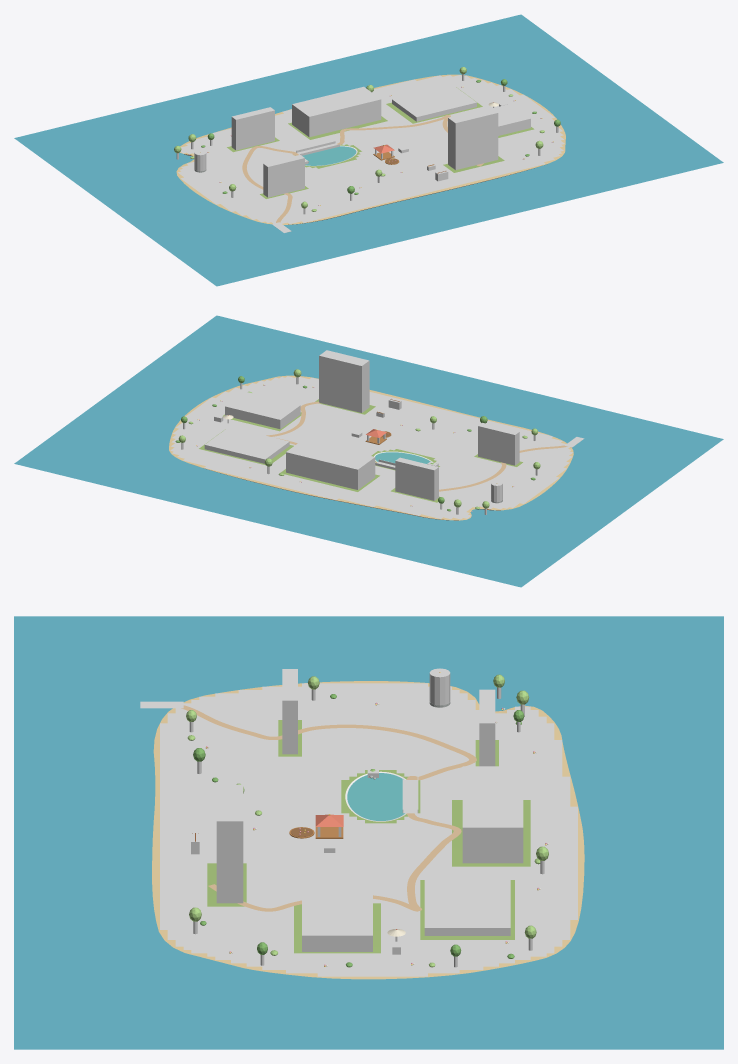
File: island_color_v10_pondcolorfix.glb
The picture shows the model from 3 angles, top to bottom: view 1: azimuth 30°, elevation 25°; view 2: azimuth 150°, elevation 25°; view 3: azimuth 270°, elevation 25°; orthographic projection. The views are drawn at different scales.
Visible parts, largest first — view 1: ISLAND_Sea_Surface, NAV_Walkable, COL_BLD_03_ByteDance, COL_BLD_06_Photo, COL_BLD_04_Football, ISLAND_Sand_Beach, COL_BLD_02_Tsinghua, COL_BLD_01_CSU, ISLAND_Grass_Main, ROAD_MainRoute, ISLAND_Body_Sides, COL_BLD_05_Volleyball; view 2: ISLAND_Sea_Surface, NAV_Walkable, COL_BLD_03_ByteDance, COL_BLD_06_Photo, COL_BLD_04_Football, COL_BLD_05_Volleyball, ISLAND_Sand_Beach, COL_BLD_02_Tsinghua, COL_BLD_01_CSU, ISLAND_Grass_Main, ISLAND_Body_Sides, ROAD_MainRoute; view 3: ISLAND_Sea_Surface, NAV_Walkable, COL_BLD_03_ByteDance, ISLAND_Grass_Main, COL_BLD_04_Football, ISLAND_Sand_Beach, COL_BLD_05_Volleyball, COL_BLD_06_Photo, ROAD_MainRoute, ISLAND_Body_Sides, COL_BLD_01_CSU, COL_BLD_02_Tsinghua (+1 smaller).
Boxes of the visible parts, box(x1,y1,x2,y2) form: ISLAND_Sea_Surface: box(14, 14, 723, 286); NAV_Walkable: box(178, 75, 564, 232); COL_BLD_03_ByteDance: box(292, 86, 381, 137); COL_BLD_06_Photo: box(448, 107, 498, 169); COL_BLD_04_Football: box(392, 84, 476, 121); ISLAND_Sand_Beach: box(176, 74, 565, 224); COL_BLD_02_Tsinghua: box(231, 107, 274, 150); COL_BLD_01_CSU: box(263, 154, 304, 197); ISLAND_Grass_Main: box(227, 87, 534, 198); ROAD_MainRoute: box(242, 115, 483, 222); ISLAND_Body_Sides: box(184, 146, 534, 224); COL_BLD_05_Volleyball: box(492, 104, 530, 135); ISLAND_Sea_Surface: box(14, 315, 723, 587); NAV_Walkable: box(170, 376, 584, 519); COL_BLD_03_ByteDance: box(286, 439, 375, 489); COL_BLD_06_Photo: box(319, 350, 369, 412); COL_BLD_04_Football: box(204, 427, 289, 463); COL_BLD_05_Volleyball: box(225, 391, 300, 429); ISLAND_Sand_Beach: box(169, 375, 573, 520); COL_BLD_02_Tsinghua: box(395, 457, 438, 500); COL_BLD_01_CSU: box(478, 422, 519, 465); ISLAND_Grass_Main: box(199, 399, 522, 502); ISLAND_Body_Sides: box(205, 452, 500, 520); ROAD_MainRoute: box(266, 401, 567, 491); ISLAND_Sea_Surface: box(14, 616, 723, 1049); NAV_Walkable: box(140, 683, 577, 976); COL_BLD_03_ByteDance: box(462, 766, 523, 863); ISLAND_Grass_Main: box(207, 720, 530, 953); COL_BLD_04_Football: box(424, 876, 510, 935); ISLAND_Sand_Beach: box(152, 681, 584, 979); COL_BLD_05_Volleyball: box(302, 888, 372, 951); COL_BLD_06_Photo: box(216, 784, 243, 903); ROAD_MainRoute: box(181, 705, 476, 911); ISLAND_Body_Sides: box(347, 773, 404, 820); COL_BLD_01_CSU: box(282, 669, 297, 754); COL_BLD_02_Tsinghua: box(479, 689, 495, 766).
Bounding box in the file's own units: 260 × 29 × 180.
